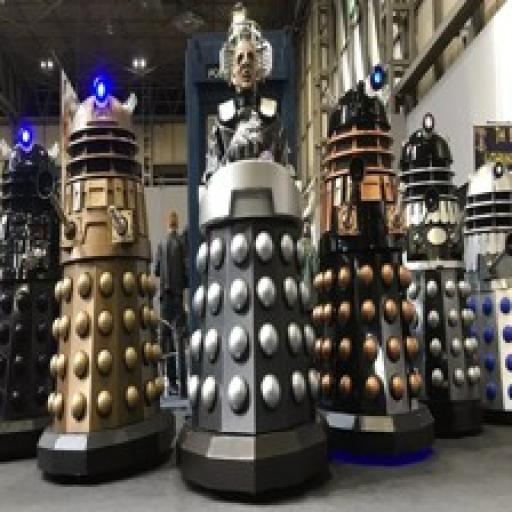dalek: (170, 32, 334, 500), (26, 73, 176, 480), (311, 65, 438, 460), (399, 112, 483, 437), (0, 127, 63, 452), (459, 153, 512, 418)
